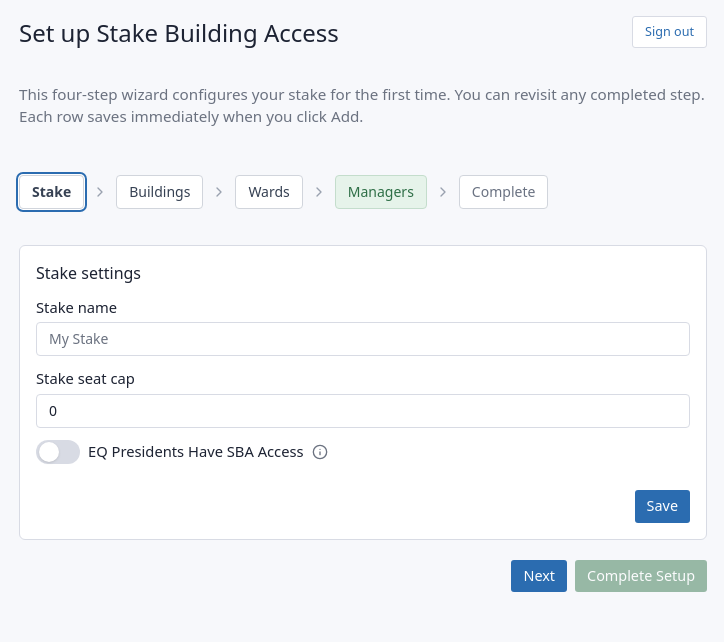
<BootstrapWizardPage /> › Next-button gating on the buildings and wards steps › leaves Next enabled on step 1 regardless of buildings and wards
Click the button with test id "bootstrap-next".
click(539, 576)  # box [512,560,567,592]
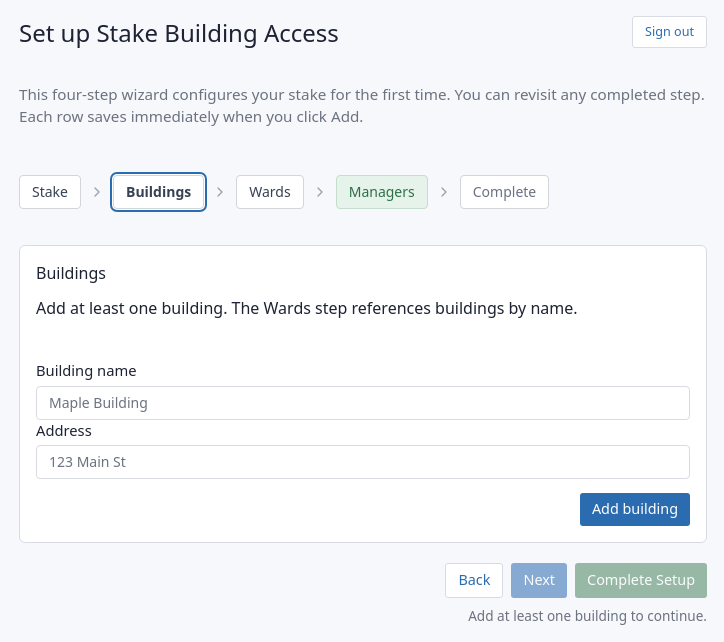
Check: the element with test id "wizard-step-2" is shown, box [19,245,707,543]
